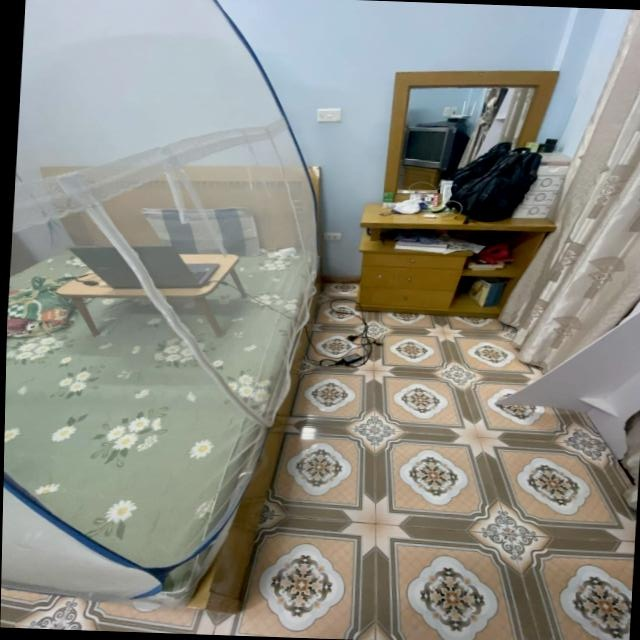outlet: (323, 232, 342, 244)
